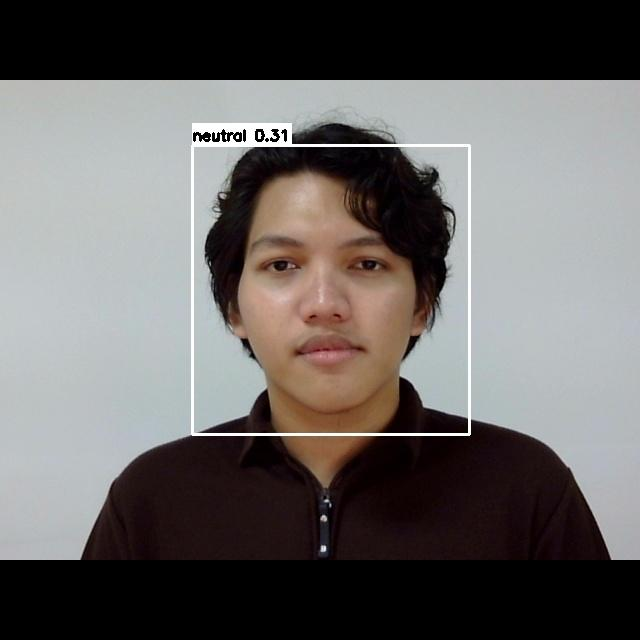Natural: (233, 208, 424, 384)
